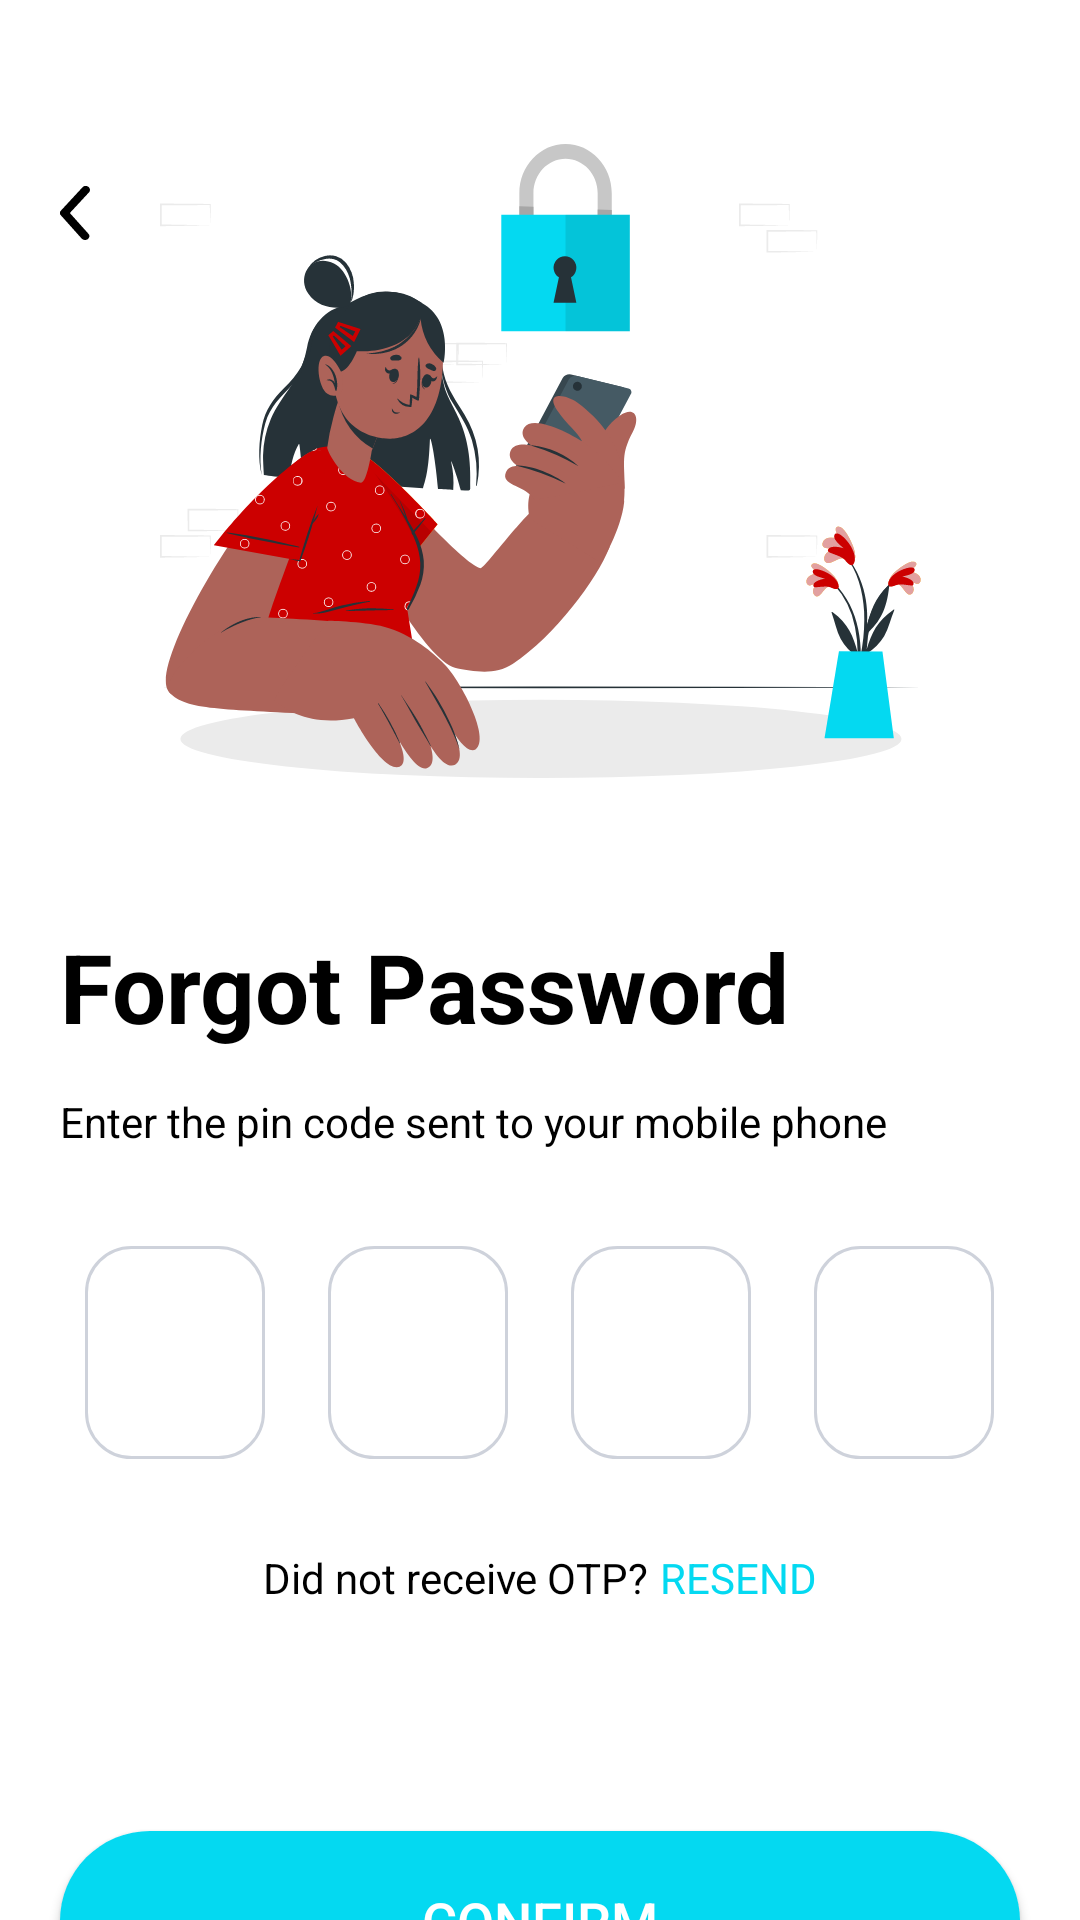

Icon click points for this 1080x1920 phone screenshot, format point (x, y):
back: point (75, 213)
